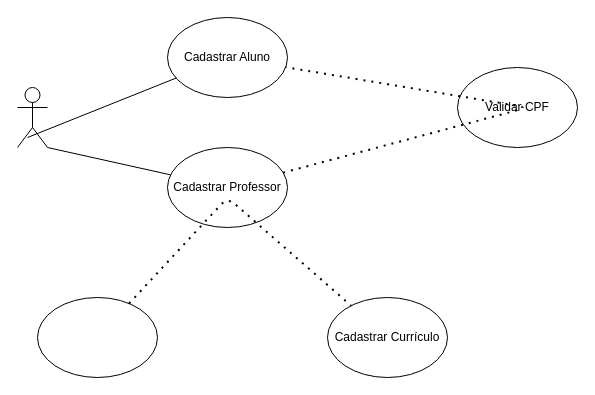
This 595x395 diagram has some shape labels left out. Here are the shapes that lost their labels. From the top down, the centre of each, then its label:
At [32,117]: "Actor".
At [97,337]: "Cadastrar Qualificação".
